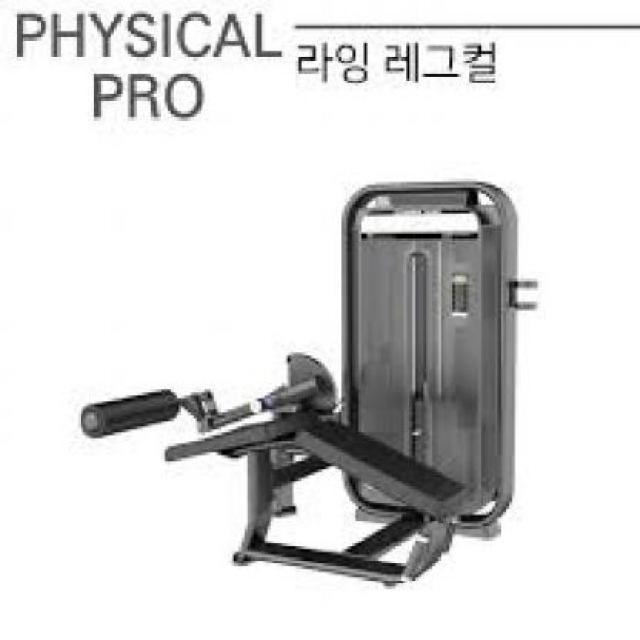reg curl machine: (77, 175, 546, 594)
